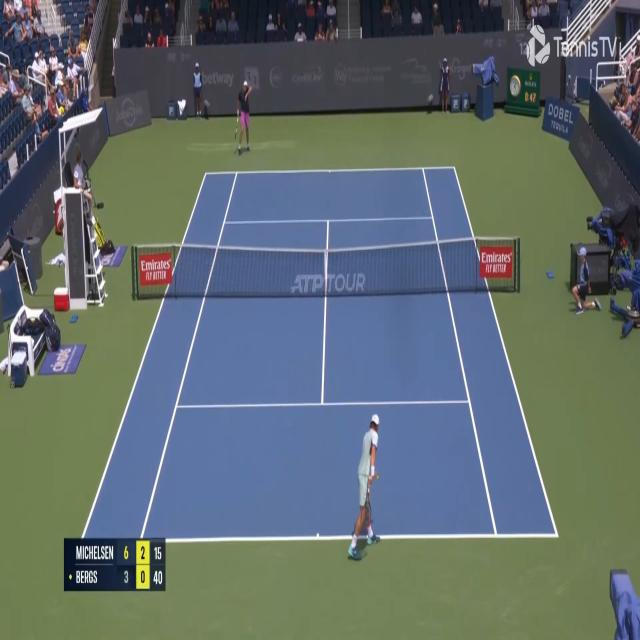tennis-player: (345, 410, 383, 564), (234, 81, 253, 156)
